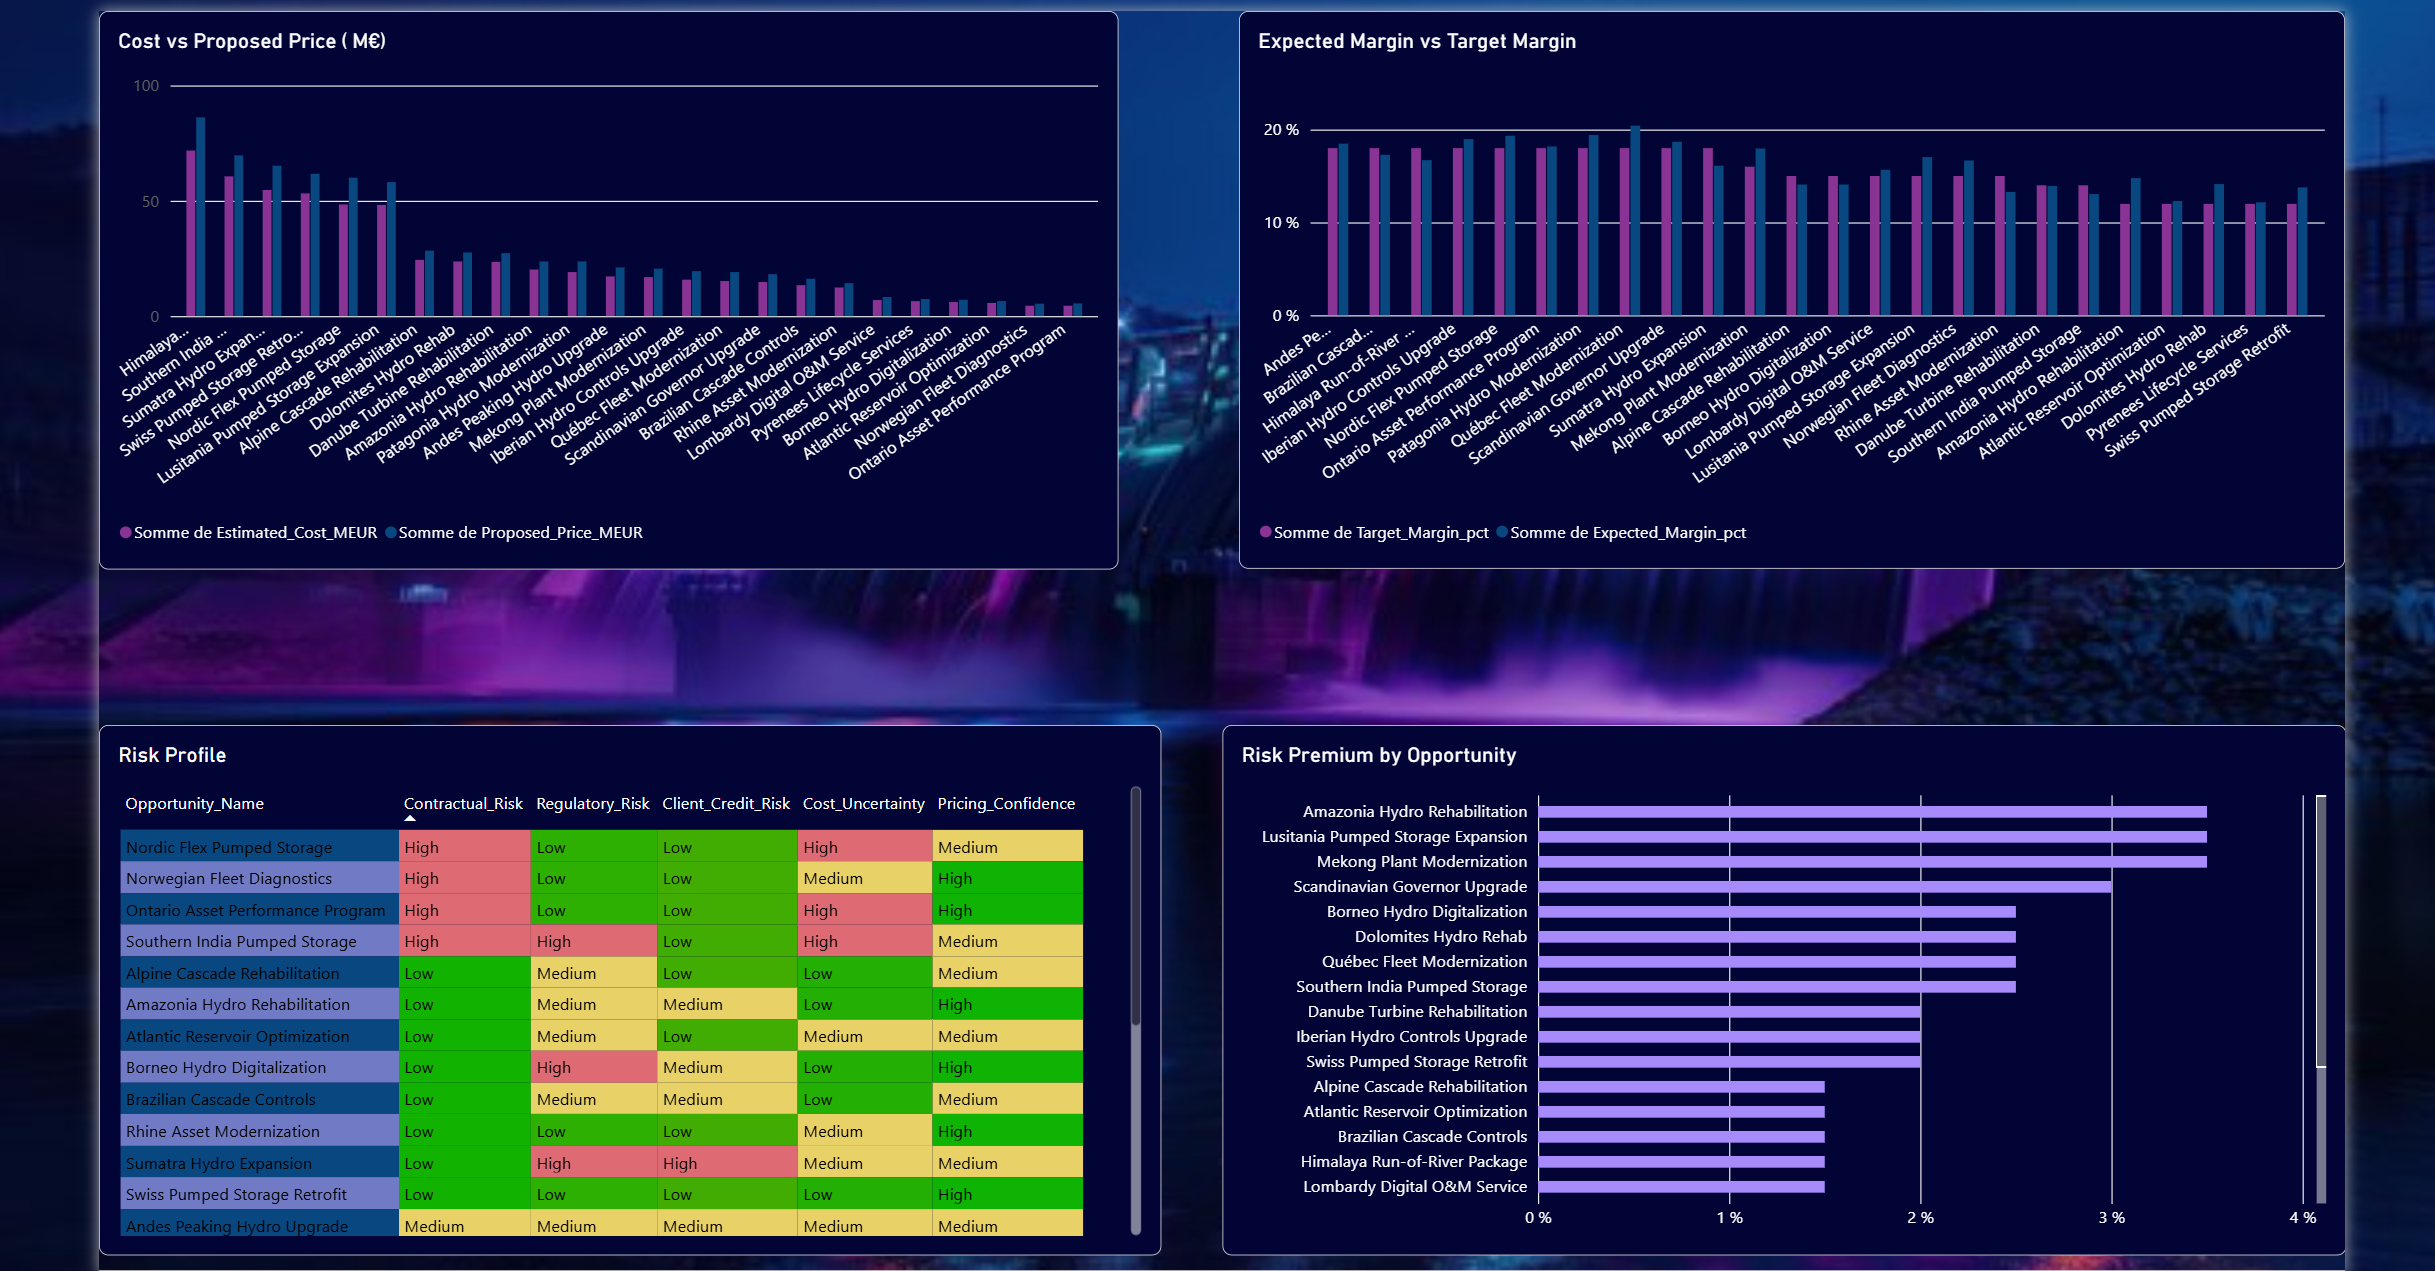

What the dashboard file says about the page in this screenshot:
{"tool":"powerbi","page":{"name":"Pricing & Risk","canvas":[1920,1080],"ordinal":2},"visuals":[{"type":"clusteredColumnChart","title":"Expected Margin vs Target Margin","fields":{"Category":["OpportunitiesTable.Opportunity_Name"],"Y":["Sum(OpportunitiesTable.Target_Margin_pct)","Sum(OpportunitiesTable.Expected_Margin_pct)"]},"box":[985.4,0,934,477.1],"z":0},{"type":"clusteredColumnChart","title":"Cost vs Proposed Price ( M€)","fields":{"Category":["OpportunitiesTable.Opportunity_Name"],"Y":["Sum(OpportunitiesTable.Estimated_Cost_MEUR)","Sum(OpportunitiesTable.Proposed_Price_MEUR)"]},"box":[0,0,909,477.1],"z":1000},{"type":"tableEx","title":"Risk Profile","fields":{"Values":["OpportunitiesTable.Opportunity_Name","OpportunitiesTable.Contractual_Risk","OpportunitiesTable.Regulatory_Risk","OpportunitiesTable.Client_Credit_Risk","OpportunitiesTable.Cost_Uncertainty","OpportunitiesTable.Pricing_Confidence"]},"box":[0,623.7,909,439.7],"z":2000},{"type":"barChart","title":"Risk Premium by Opportunity","fields":{"Category":["OpportunitiesTable.Opportunity_Name"],"Y":["Sum(OpportunitiesTable.Risk_Premium_pct)"]},"box":[985.4,623.7,935.5,439.7],"z":3000}]}

Visuals, with their boxes on the page's 1920x1080 design canvas (x1, y1, x2, y2). These are canvas units, not pixel positions in the 2435x1271 screenshot, which may show the page scaled, cropped or inside an application window:
"Expected Margin vs Target Margin" clusteredColumnChart: [985,0,1919,477]
"Cost vs Proposed Price ( M€)" clusteredColumnChart: [0,0,909,477]
"Risk Profile" tableEx: [0,624,909,1063]
"Risk Premium by Opportunity" barChart: [985,624,1921,1063]
